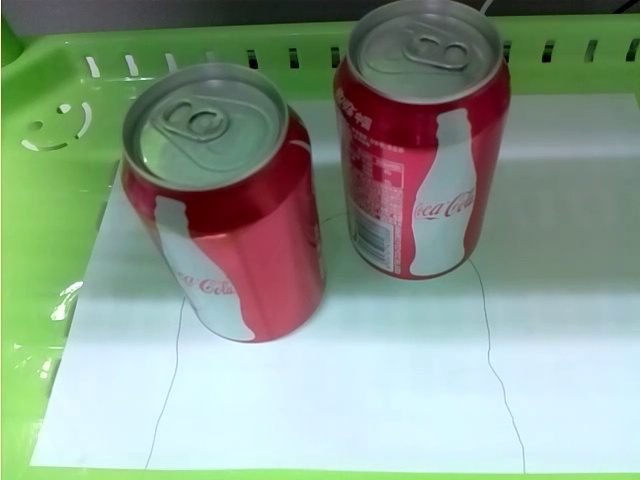cocacola: (116, 65, 329, 343), (328, 1, 513, 282)
